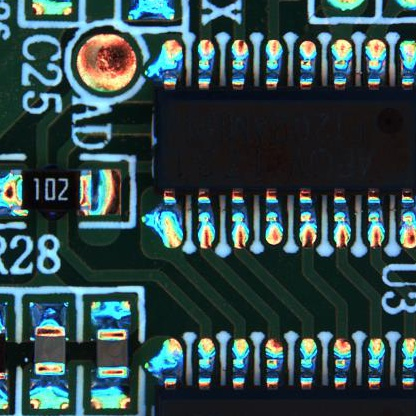spot: (70, 29, 142, 96)
